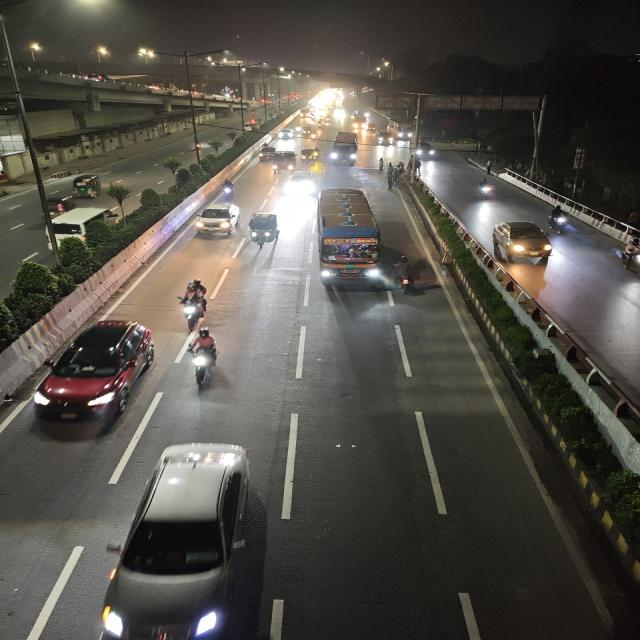bus: (313, 184, 387, 292), (329, 132, 359, 166), (391, 122, 415, 140)
car: (99, 434, 272, 640), (29, 314, 161, 429), (38, 204, 126, 242), (488, 218, 555, 266), (192, 183, 241, 241), (283, 168, 316, 198), (417, 141, 437, 161), (257, 144, 279, 162), (376, 131, 396, 147), (277, 127, 297, 139)
cng: (244, 210, 283, 252), (68, 171, 105, 201), (299, 147, 316, 167), (300, 125, 314, 138)
motorcycle: (181, 327, 227, 391), (172, 276, 214, 334), (390, 254, 424, 297), (612, 236, 640, 278), (545, 204, 576, 236), (40, 194, 78, 219), (473, 177, 498, 203), (217, 178, 238, 202), (190, 136, 208, 154)
pedestrian: (384, 169, 396, 189), (387, 160, 400, 175), (376, 157, 386, 173), (395, 160, 405, 176)
pickup_van: (272, 150, 297, 174)
